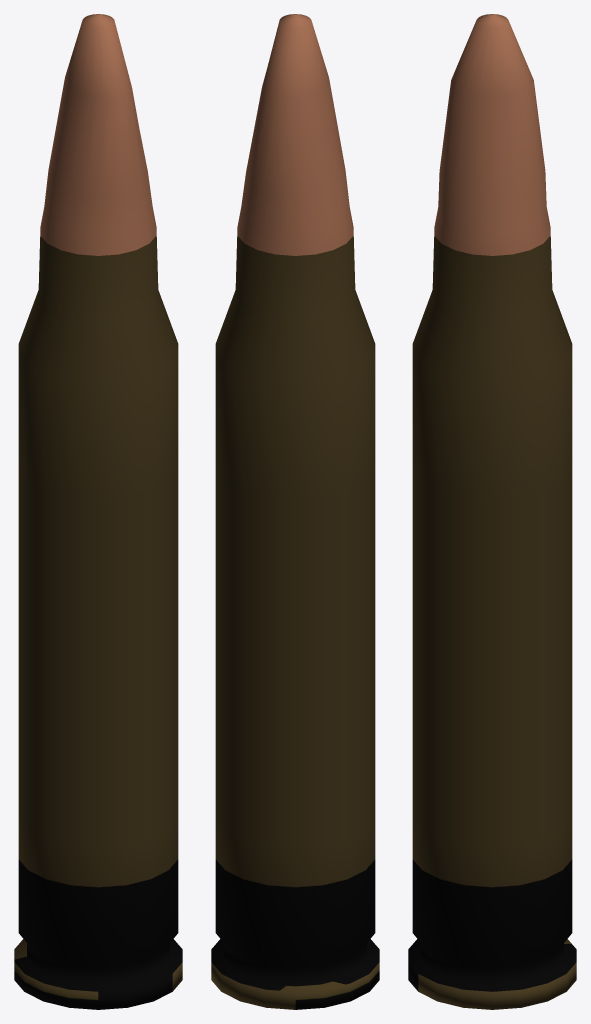
Rendered from AK47 Bullet.FBX.
3 views of the same model, side by side, from view 1: azimuth 30°, elevation 25°; view 2: azimuth 150°, elevation 25°; view 3: azimuth 270°, elevation 25° (orthographic).
Visible parts, largest first — view 1: AK47 Bullet; view 2: AK47 Bullet; view 3: AK47 Bullet.
Part boxes in pixels (x1=…): AK47 Bullet: x1=14, y1=14, x2=182, y2=1009; AK47 Bullet: x1=211, y1=14, x2=379, y2=1009; AK47 Bullet: x1=408, y1=14, x2=576, y2=1009.
Size of the model in its own units: 104 by 645 by 103.
